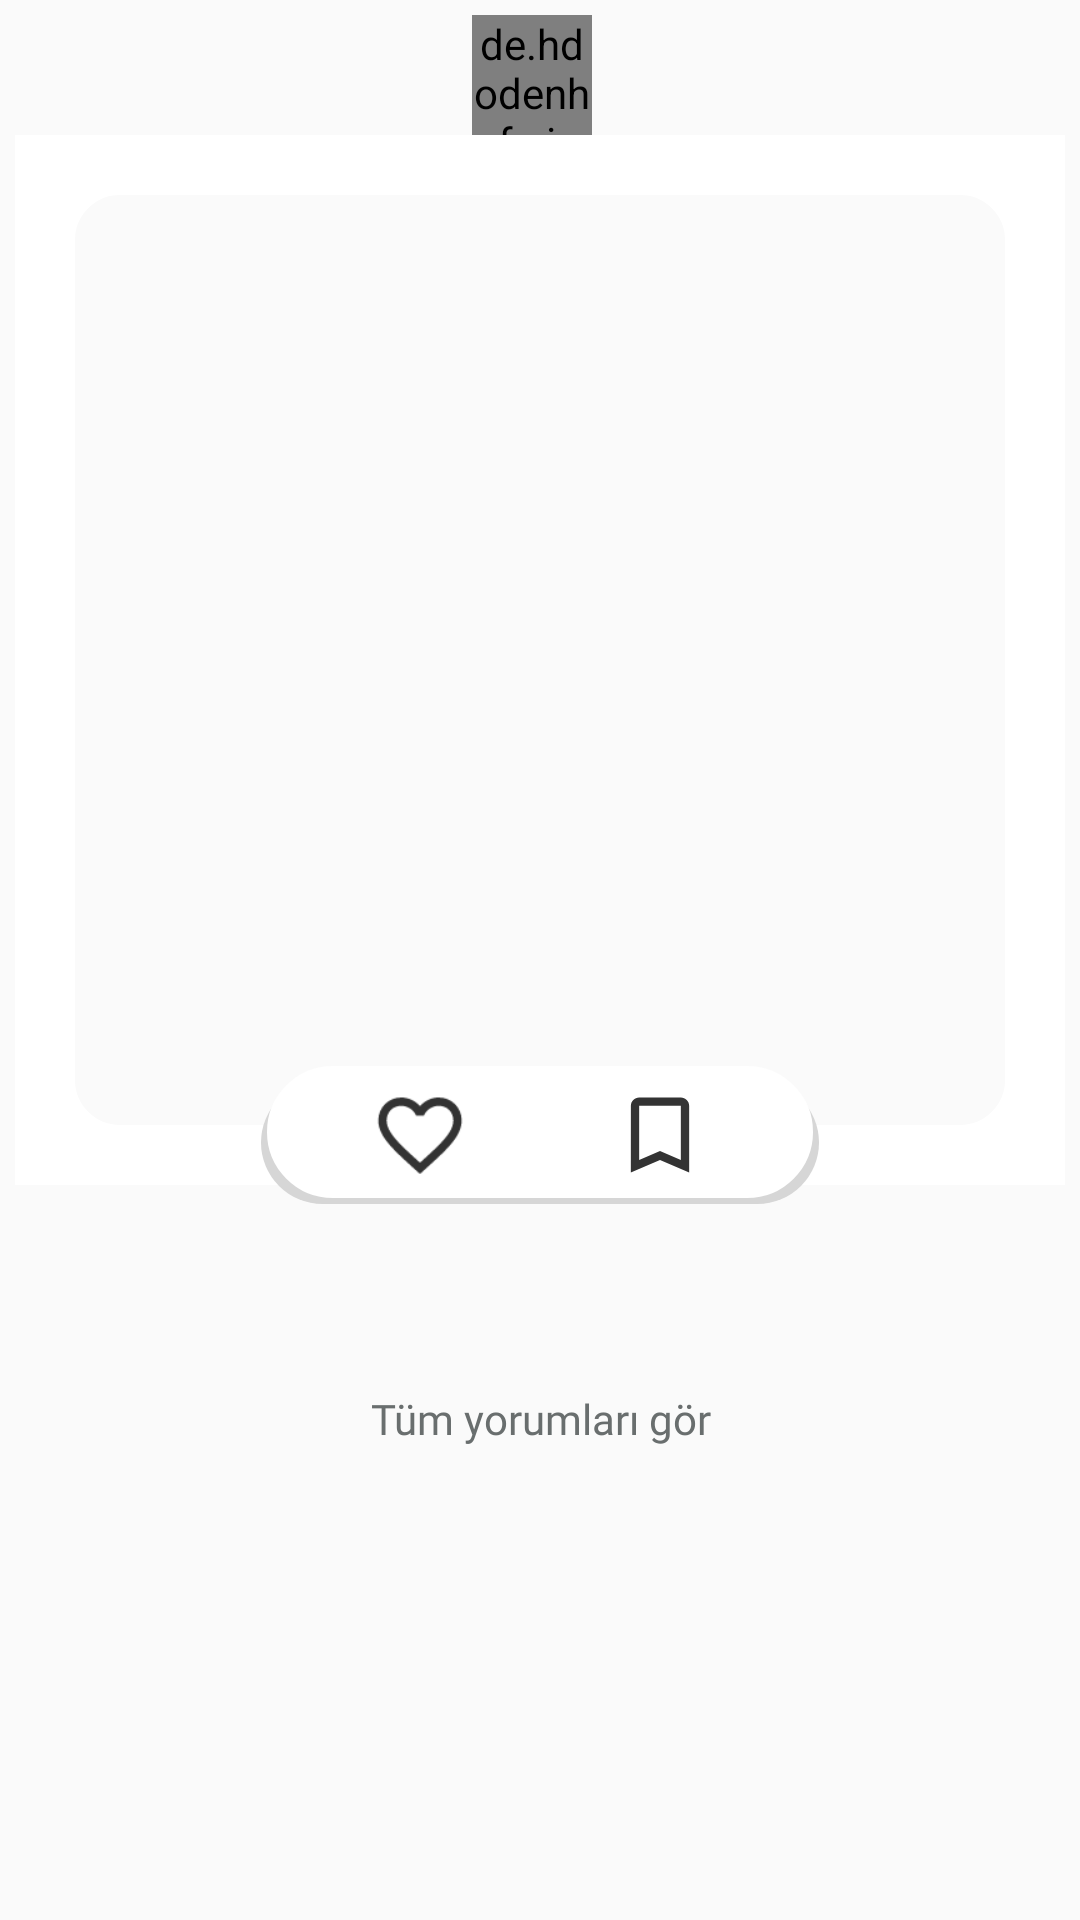

Icons on this 1080 × 1920 Android screen, each with its box as {"left": x1, "top": y1, "right": x2, "bottom": y2}:
bookmark: {"left": 630, "top": 1097, "right": 690, "bottom": 1173}
like: {"left": 377, "top": 1097, "right": 463, "bottom": 1174}
